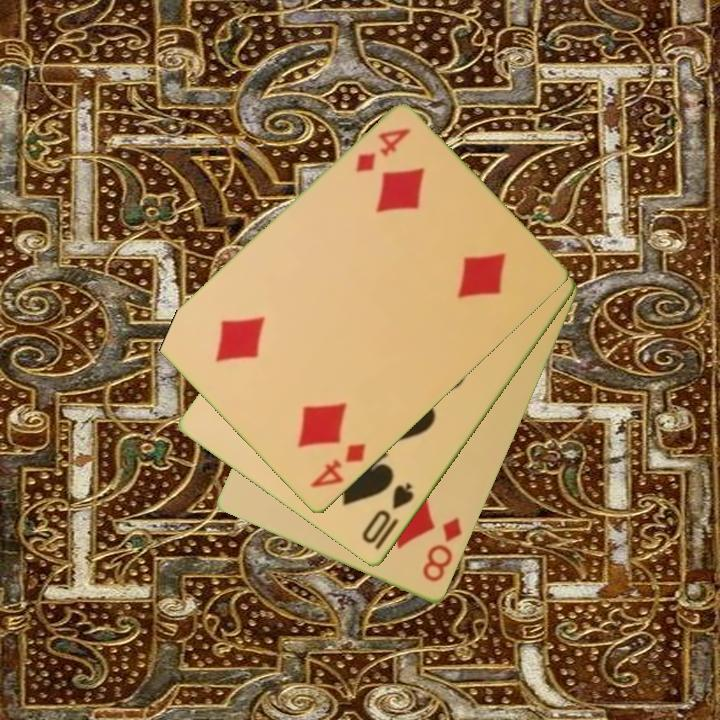10s: (358, 479, 417, 548)
4d: (307, 440, 369, 492), (352, 125, 414, 176)
8d: (419, 514, 465, 586)
